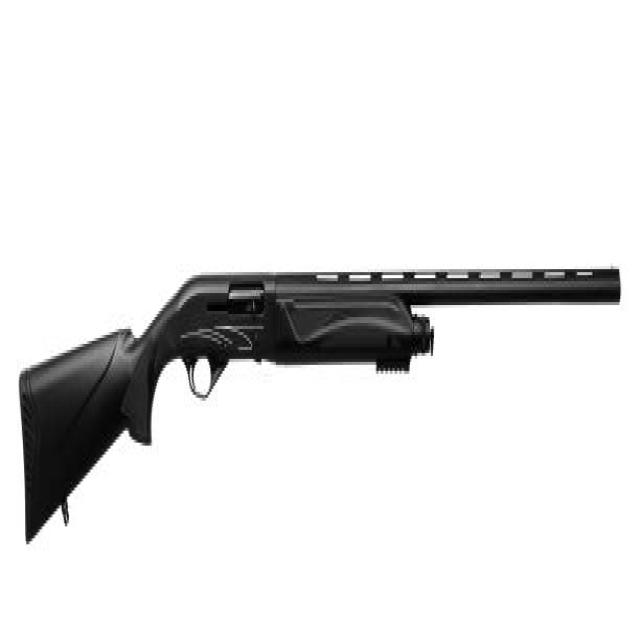rifle: (12, 251, 626, 563)
